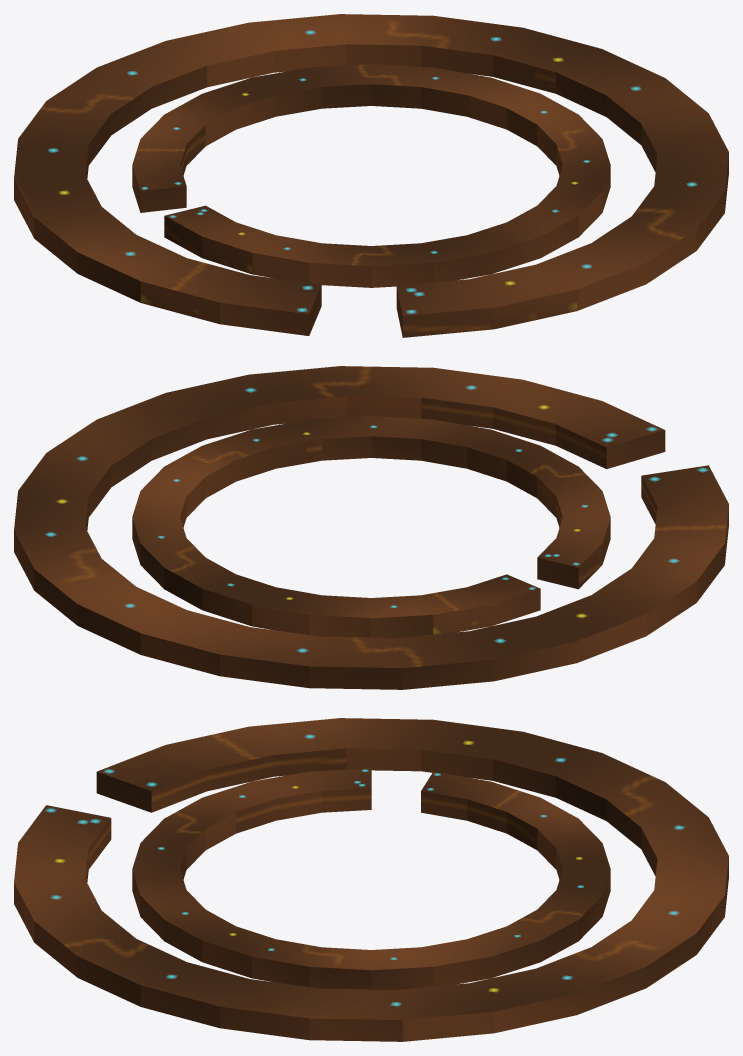
File: Ring Segement.glb
3 renders of one model, top to bottom at view 1: azimuth 30°, elevation 25°; view 2: azimuth 150°, elevation 25°; view 3: azimuth 270°, elevation 25°, orthographic.
Visible parts, largest first — view 1: Cylinder.002, Cylinder; view 2: Cylinder.002, Cylinder; view 3: Cylinder.002, Cylinder.
Boxes of the visible parts, x1,y1,x2,y2 form: Cylinder.002: (14, 14, 728, 337); Cylinder: (132, 64, 610, 287); Cylinder.002: (14, 366, 728, 689); Cylinder: (132, 416, 610, 637); Cylinder.002: (14, 718, 728, 1041); Cylinder: (132, 768, 610, 989).
Size of the model in its own units: 29.89 by 1 by 29.89.
2 materials, 2 textured.
